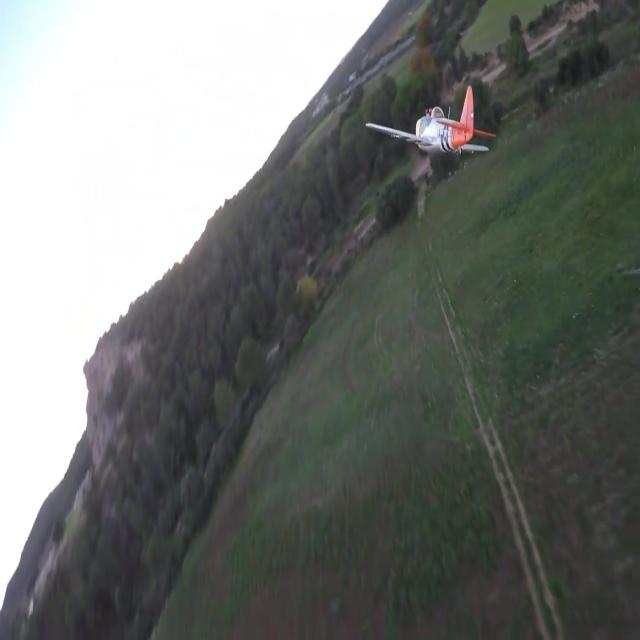iha: (365, 55, 497, 60)
